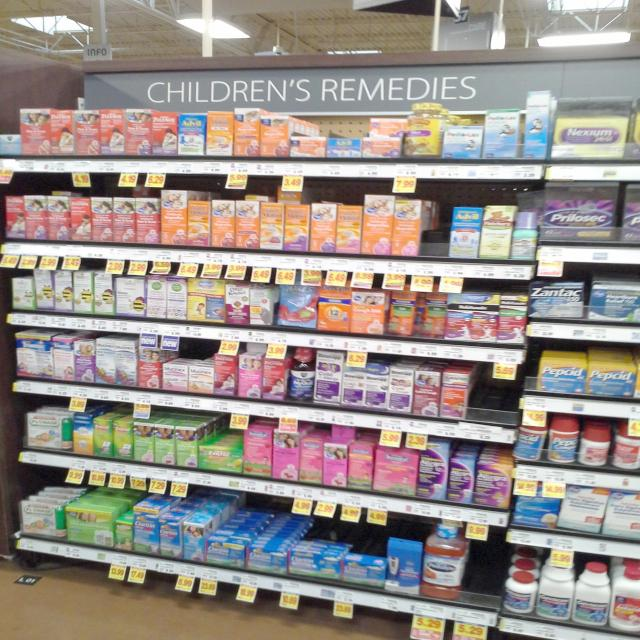empty_space: (469, 543, 503, 599), (473, 383, 519, 421), (424, 208, 448, 258)
